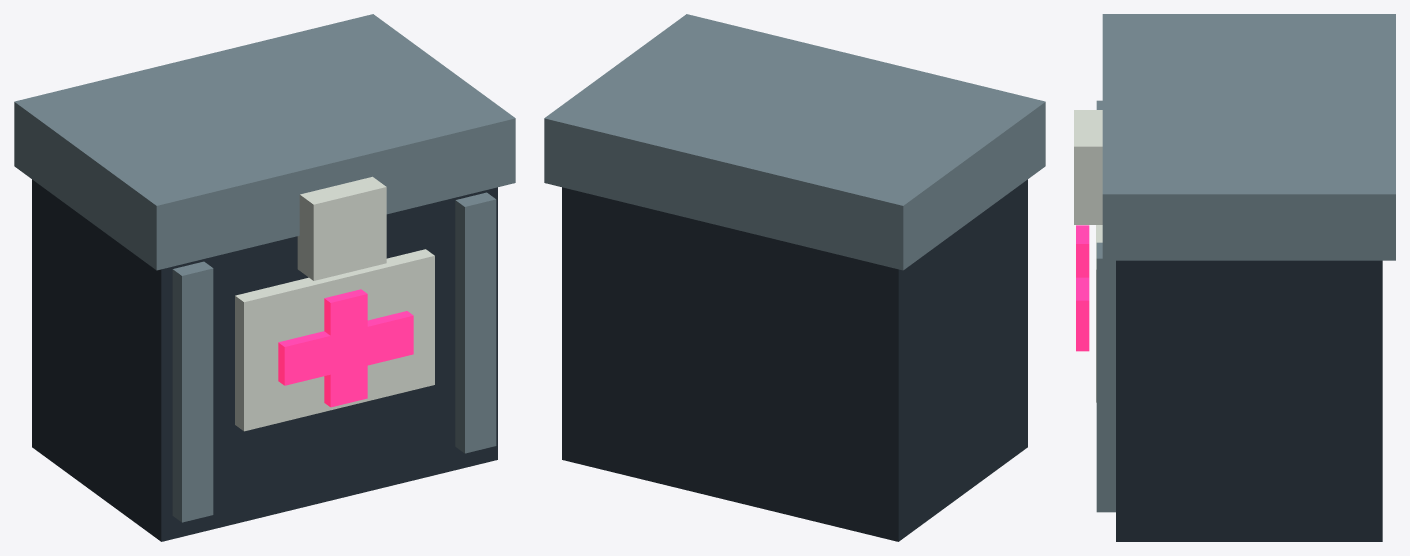
File: repair-use.glb
3 renders of one model, left to right at view 1: azimuth 30°, elevation 25°; view 2: azimuth 150°, elevation 25°; view 3: azimuth 270°, elevation 25°, orthographic. The views are drawn at different scales.
Parts seen in each view (by area): view 1: repair_lid_shell, repair_case, repair_badge, repair_corner_0.126, repair_corner_-0.126, repair_latch, repair_plus_a, repair_plus_b; view 2: repair_case, repair_lid_shell; view 3: repair_case, repair_lid_shell, repair_corner_0.126, repair_latch, repair_plus_b, repair_plus_a.
Boxes of the visible parts, left/top/right/bottom form: repair_lid_shell: left=14, top=14, right=515, bottom=270; repair_case: left=32, top=179, right=497, bottom=541; repair_badge: left=235, top=249, right=434, bottom=431; repair_corner_0.126: left=455, top=192, right=496, bottom=453; repair_corner_-0.126: left=172, top=261, right=213, bottom=522; repair_latch: left=297, top=176, right=386, bottom=280; repair_plus_a: left=278, top=311, right=413, bottom=385; repair_plus_b: left=324, top=289, right=367, bottom=407; repair_case: left=562, top=179, right=1027, bottom=541; repair_lid_shell: left=544, top=14, right=1045, bottom=270; repair_case: left=1116, top=260, right=1382, bottom=541; repair_lid_shell: left=1102, top=14, right=1395, bottom=260; repair_corner_0.126: left=1096, top=242, right=1115, bottom=512; repair_latch: left=1074, top=110, right=1102, bottom=224; repair_plus_b: left=1076, top=225, right=1089, bottom=351; repair_plus_a: left=1076, top=277, right=1089, bottom=340.
Bounding box in the file's own units: 0.32 × 0.2925 × 0.2415.
